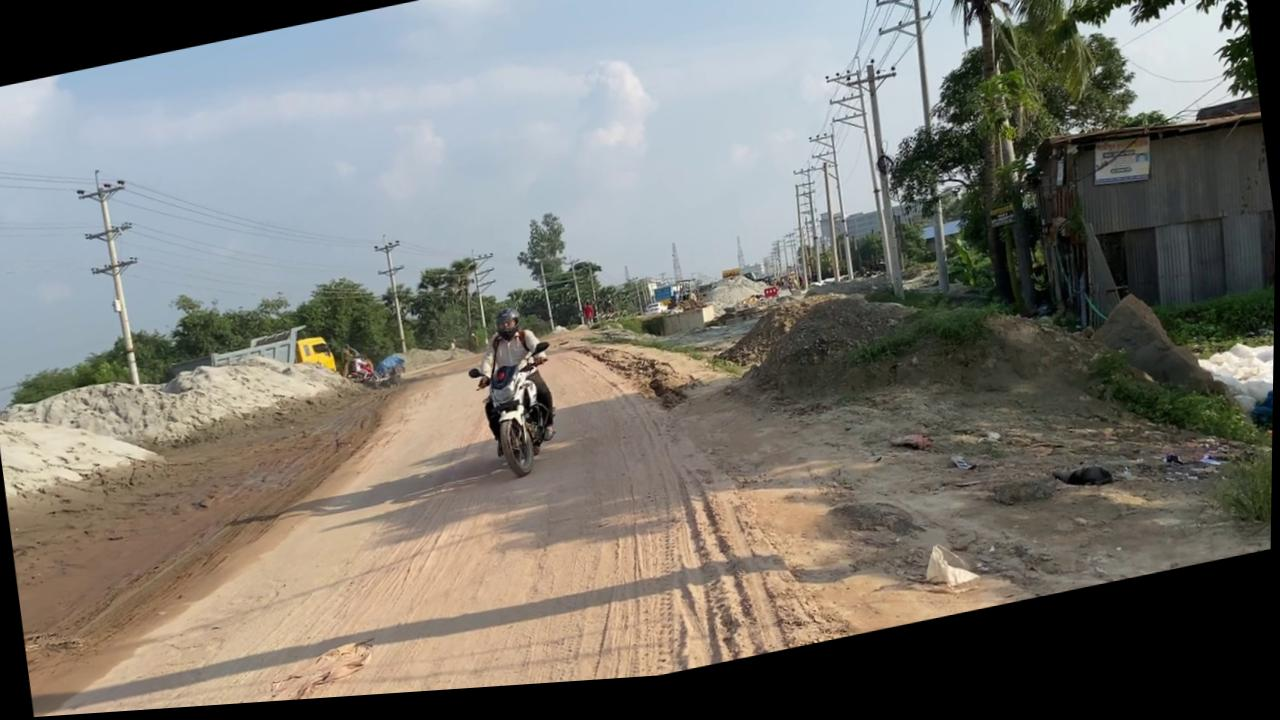Fence: (1028, 110, 1278, 352)
Garbage: (1051, 472, 1114, 510)
Motorcycle: (465, 347, 567, 492)
Obstacle: (637, 282, 717, 350), (640, 310, 717, 350)
Pole: (860, 0, 1009, 315), (71, 162, 155, 394)
Rickshaw: (627, 277, 1044, 679)
Traffic-sign: (880, 0, 1141, 346), (1054, 0, 1260, 149), (510, 215, 578, 346)
Tree: (161, 323, 339, 411), (248, 322, 339, 393), (666, 284, 708, 323), (721, 276, 741, 289)
